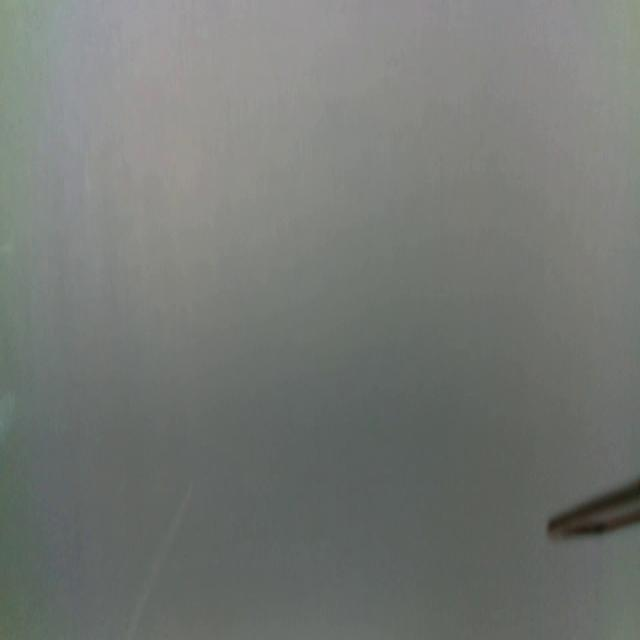crease: (128, 484, 195, 640)
